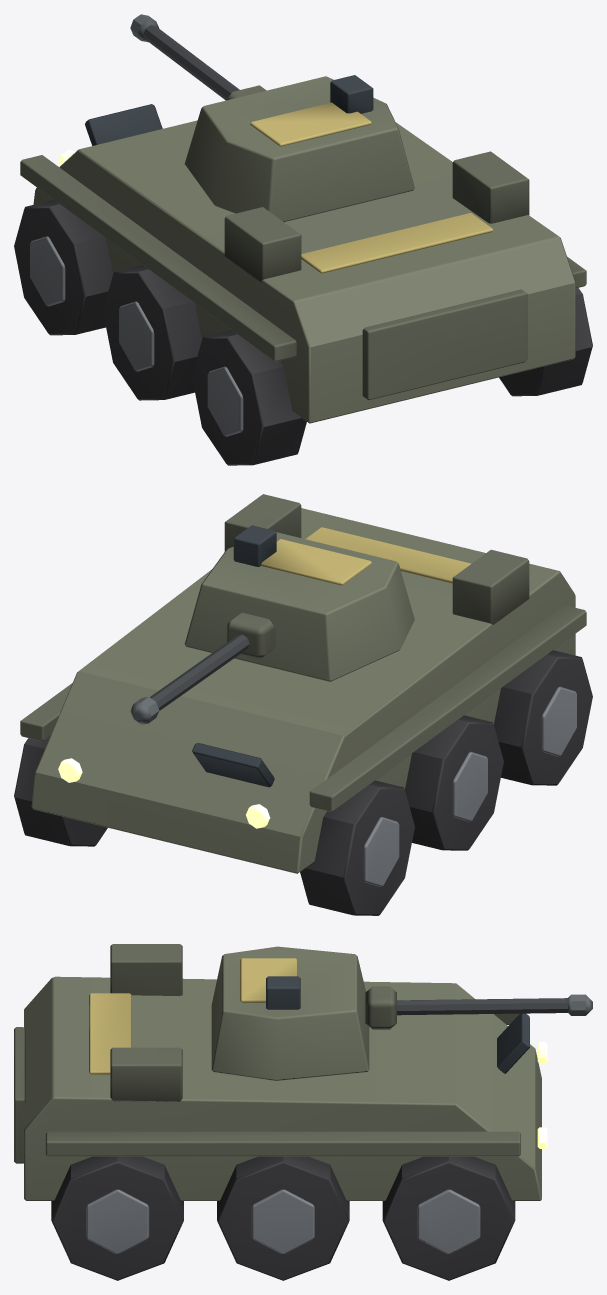
File: assault_vehicle.glb
3 renders of one model, top to bottom at view 1: azimuth 30°, elevation 25°; view 2: azimuth 150°, elevation 25°; view 3: azimuth 270°, elevation 25°, orthographic. The views are drawn at different scales.
Parts seen in each view (by area): view 1: Body, Turret, Barrel; view 2: Body, Turret, Barrel; view 3: Body, Turret, Barrel.
Boxes of the visible parts, x1,y1,x2,y2 form: Body: [14, 104, 592, 465]; Turret: [184, 75, 414, 222]; Barrel: [130, 14, 266, 100]; Body: [14, 494, 592, 915]; Turret: [184, 525, 414, 681]; Barrel: [130, 612, 275, 724]; Body: [14, 944, 547, 1280]; Turret: [211, 946, 369, 1080]; Barrel: [365, 986, 592, 1029].
Size of the model in its own units: 2.52 by 1.89 by 4.02.
